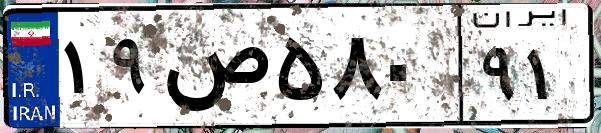0: (385, 28, 445, 110)
1: (57, 26, 110, 100), (525, 38, 570, 115)
5: (270, 28, 330, 110)
8: (330, 28, 385, 110)
9: (475, 38, 525, 113), (110, 28, 158, 98)
ص: (158, 20, 270, 120)
